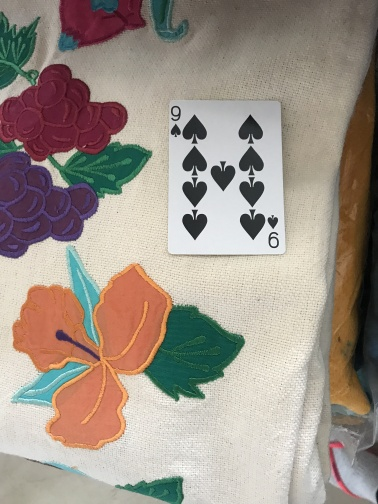nine: (165, 98, 287, 257)
